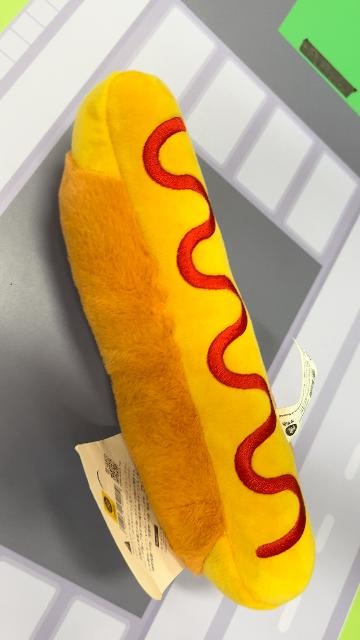hotdog: (58, 69, 318, 611)
